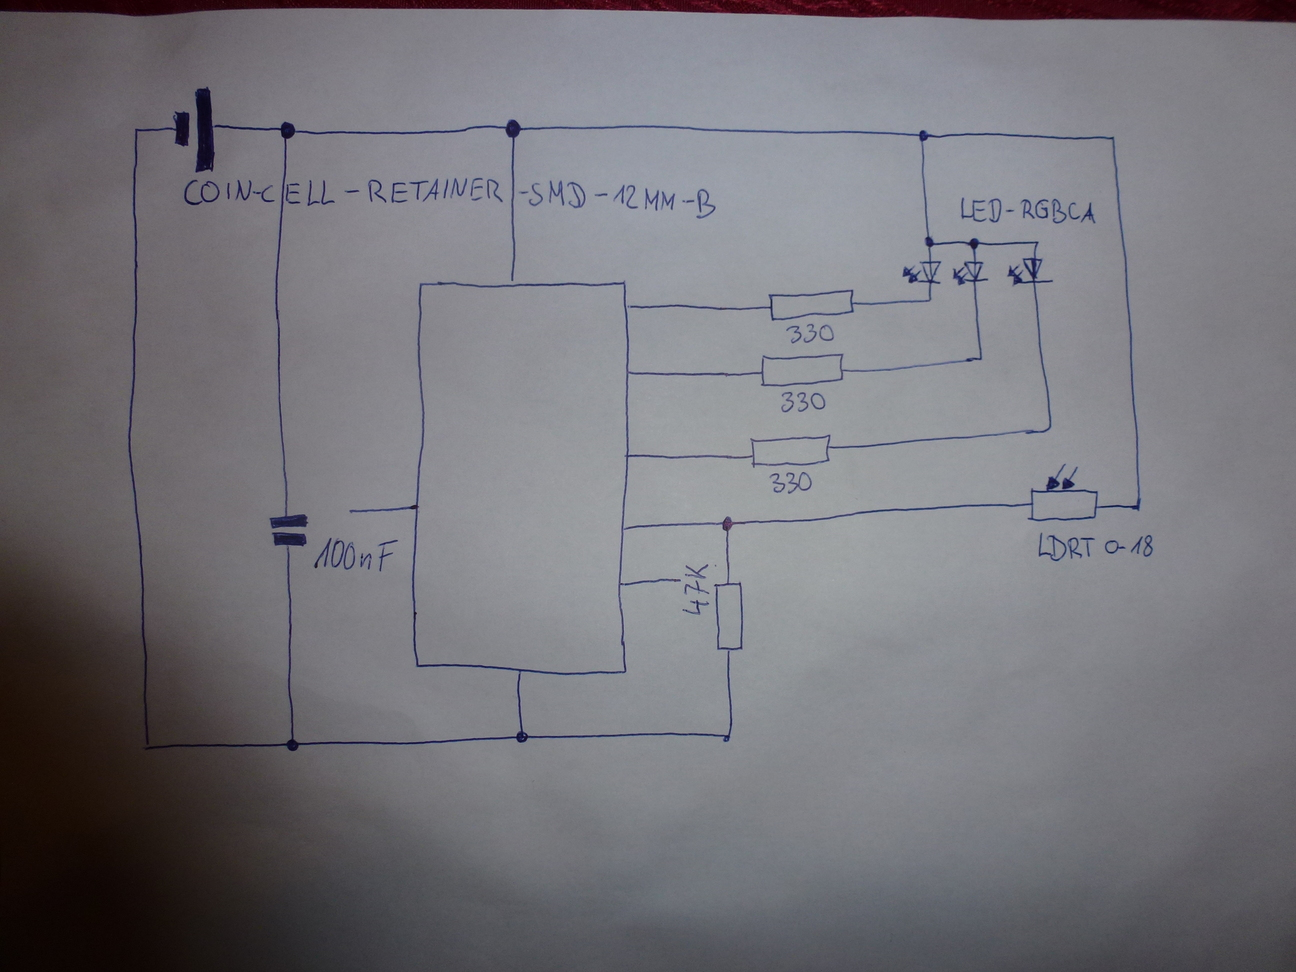capacitor.unpolarized: (266, 513, 311, 549)
diode.light_emitting: (1004, 254, 1057, 288), (900, 258, 946, 287), (950, 258, 994, 288)
integrated_circuit: (404, 269, 638, 682)
junction: (498, 114, 530, 145), (275, 115, 300, 144), (512, 728, 532, 746), (284, 736, 301, 754), (719, 515, 735, 533), (965, 235, 983, 250), (916, 127, 932, 143), (923, 234, 937, 248), (131, 124, 144, 138), (1041, 422, 1055, 435), (720, 730, 733, 745), (1106, 131, 1118, 145), (1131, 499, 1144, 512), (923, 295, 936, 306), (141, 740, 152, 754), (1028, 237, 1042, 247), (975, 352, 986, 363)
resistor: (765, 286, 856, 324), (759, 349, 845, 389), (748, 430, 833, 470), (713, 580, 746, 653)
resistor.photo: (1025, 460, 1102, 525)
text: (182, 176, 718, 222), (957, 193, 1099, 227), (1037, 528, 1156, 564), (311, 532, 400, 576), (683, 560, 712, 619), (776, 387, 828, 416), (783, 321, 837, 345), (767, 470, 814, 495)
voltage.dc: (171, 83, 221, 175)
